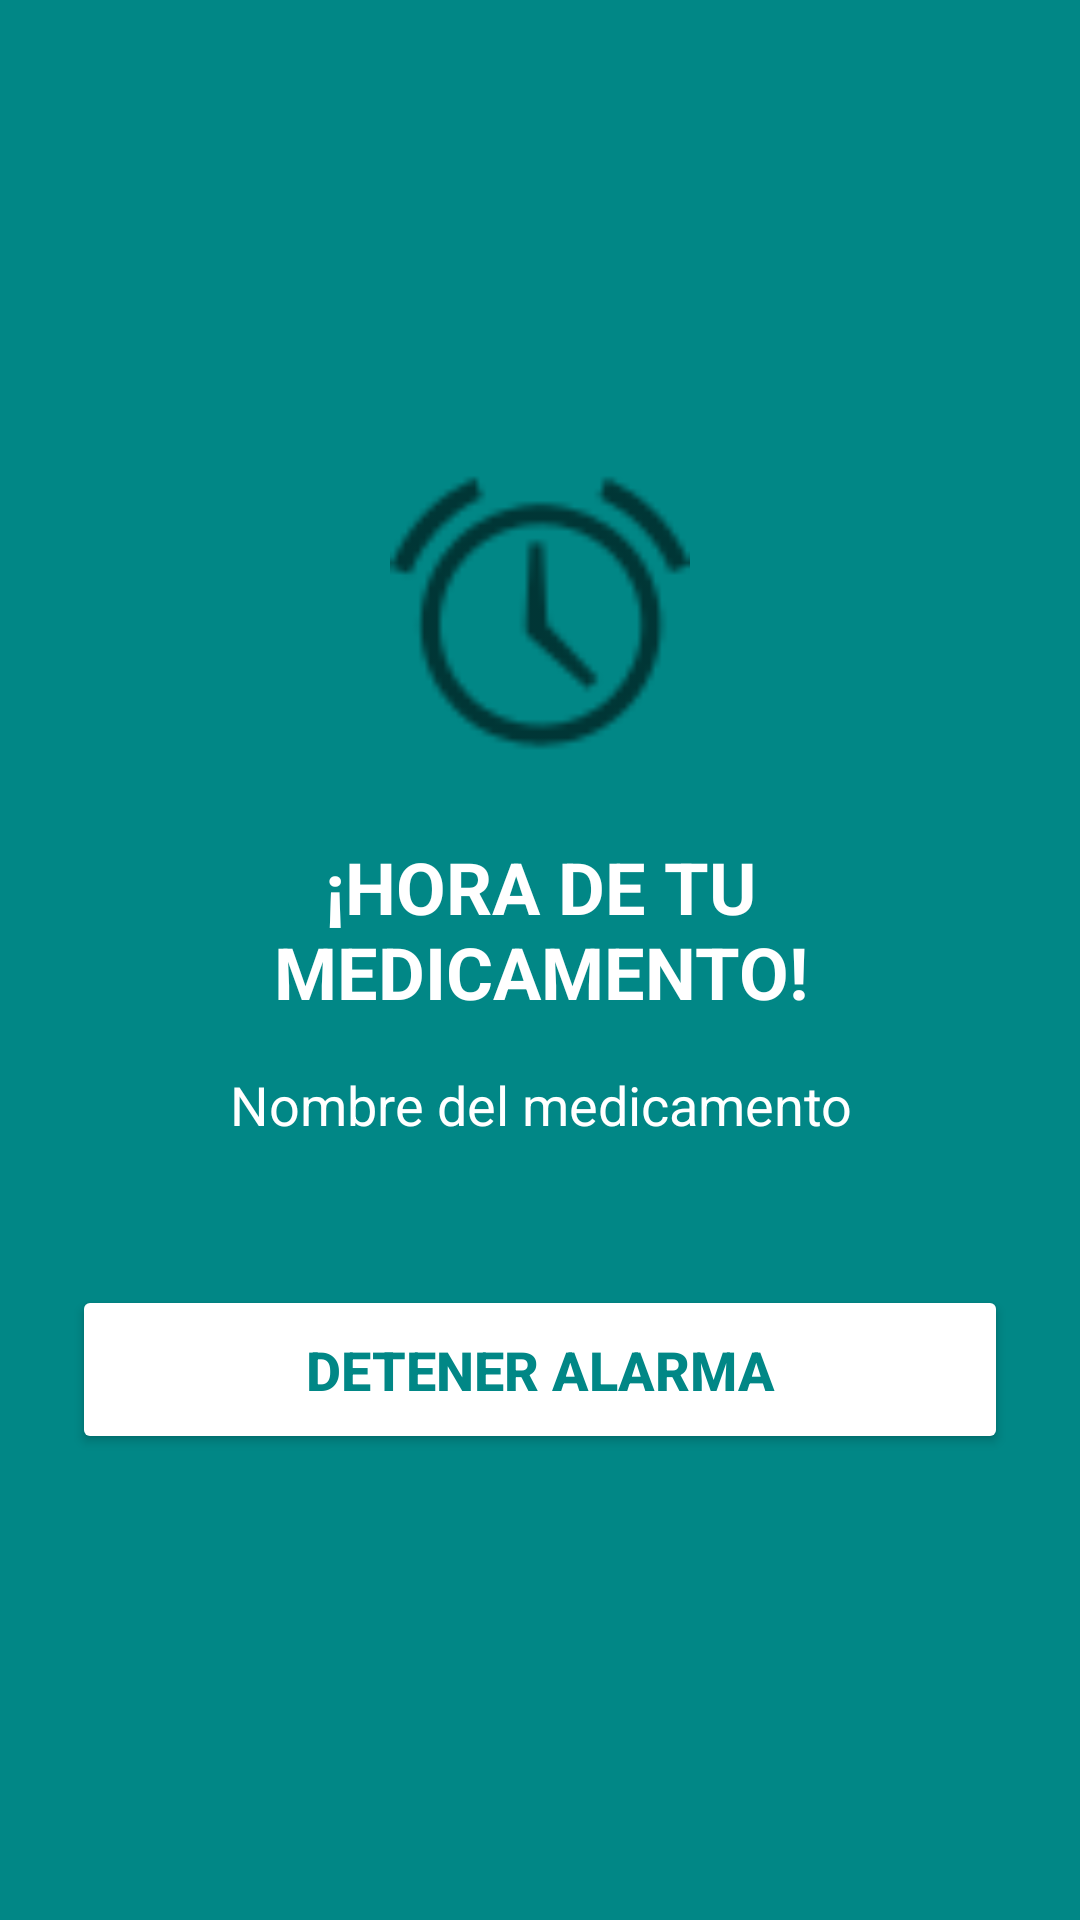

Icons on this 1080px x 1920px Android screen, each with the point to tap as (x,y):
Alarma: (540,612)
